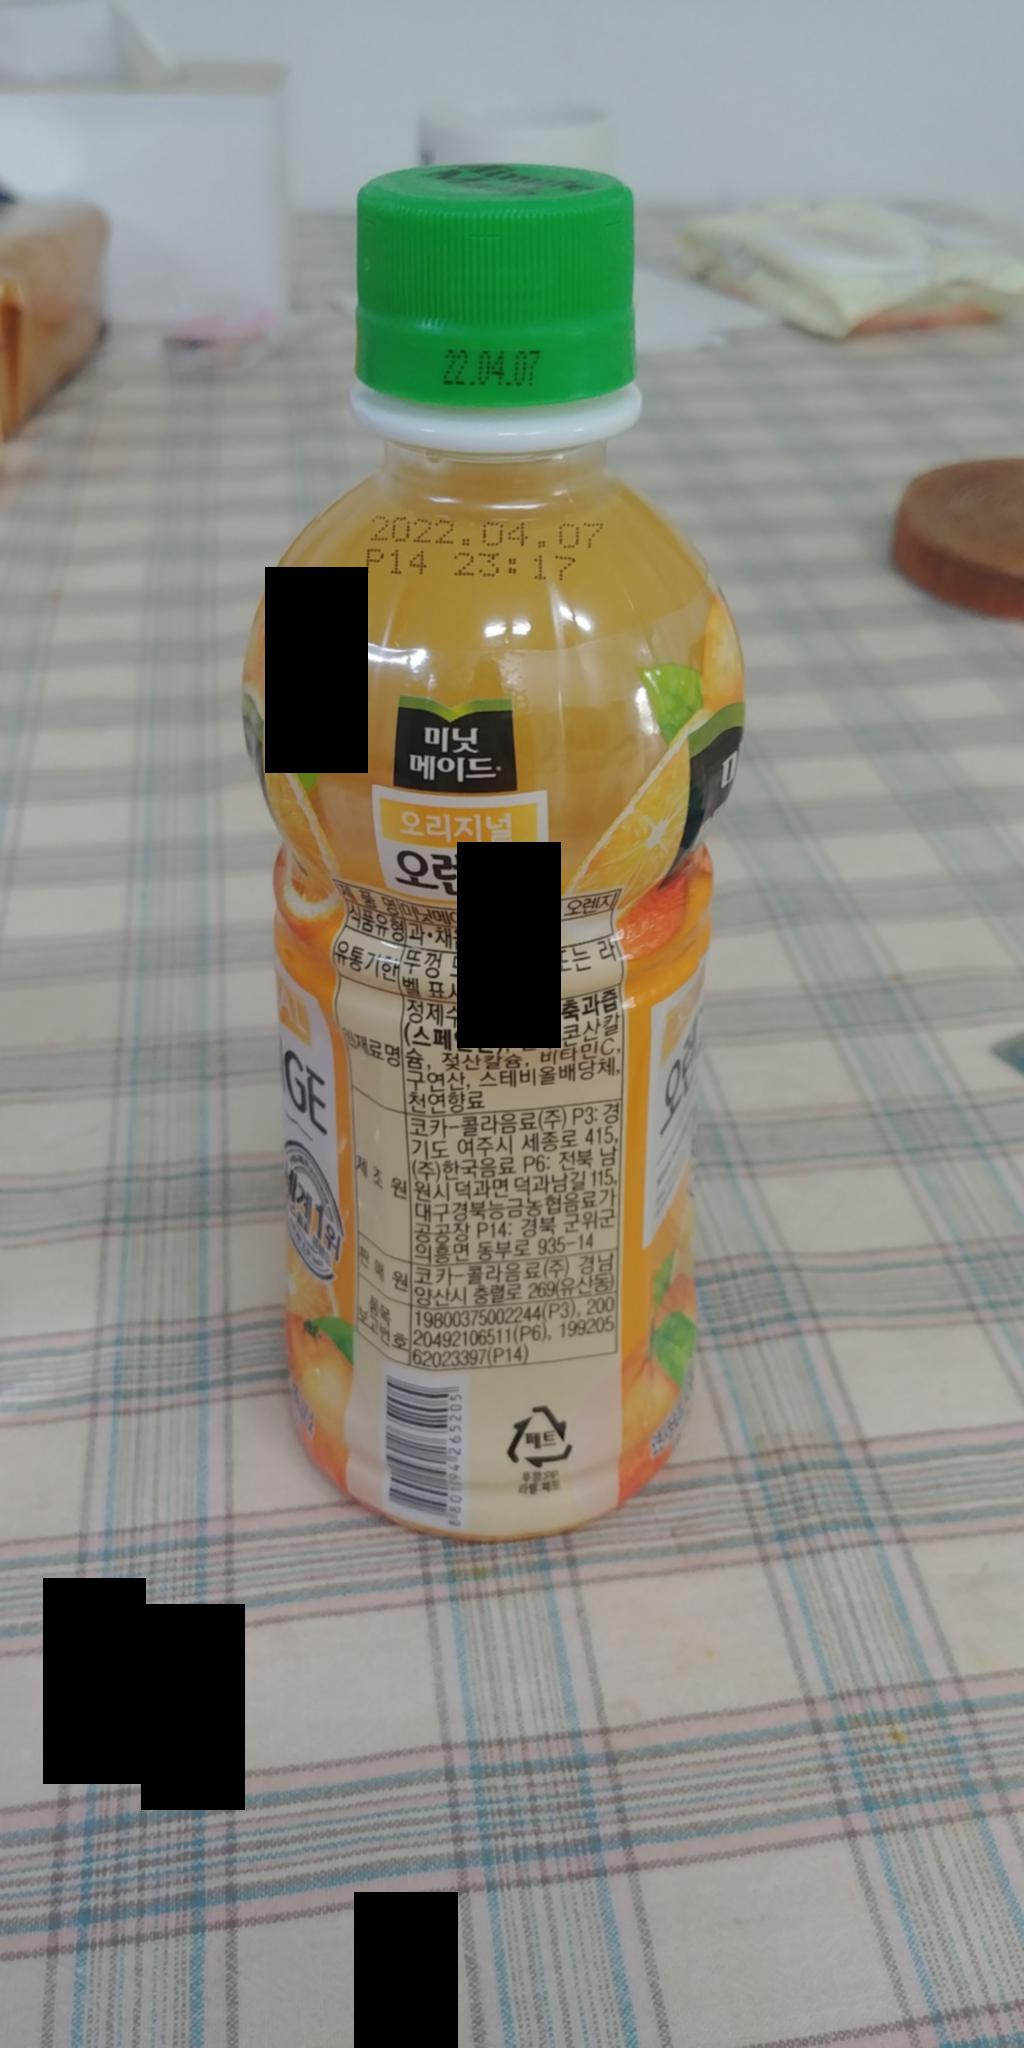minutemaid_org_orange: (239, 114, 761, 1573)
